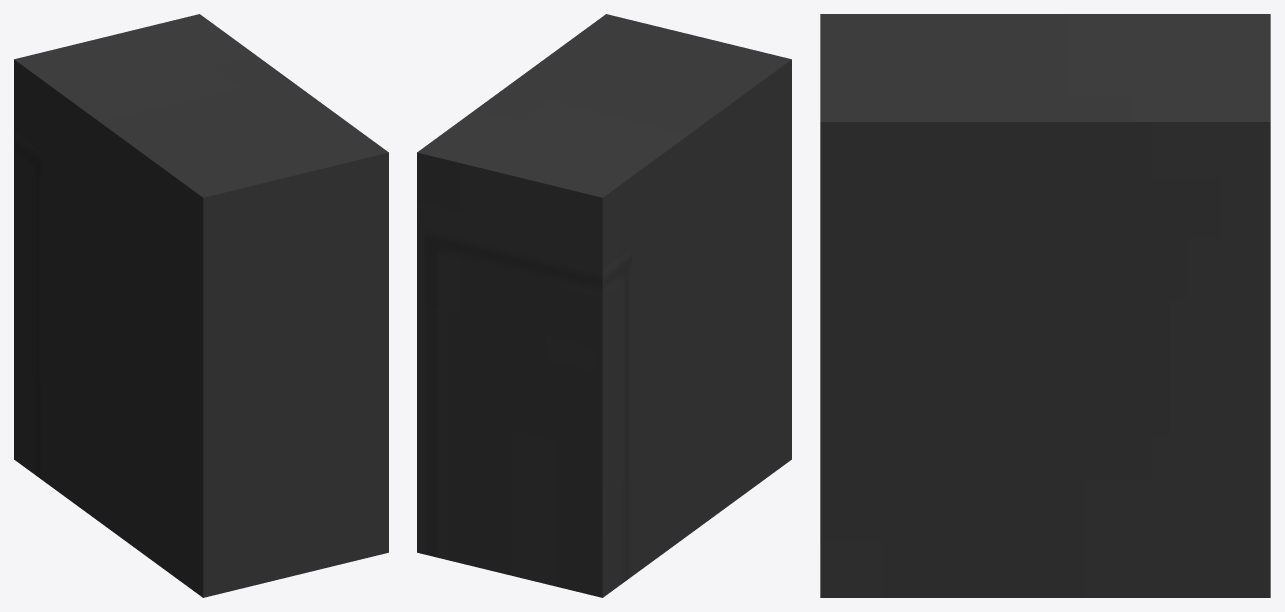
File: frame__ladder_tooth_0.glb
The picture shows the model from 3 angles, left to right: view 1: azimuth 30°, elevation 25°; view 2: azimuth 150°, elevation 25°; view 3: azimuth 270°, elevation 25°; orthographic projection. The views are drawn at different scales.
Visible parts, largest first — view 1: world; view 2: world; view 3: world.
Part boxes in pixels (left/top/right/bottom): world: left=14, top=14, right=388, bottom=597; world: left=417, top=14, right=791, bottom=597; world: left=820, top=14, right=1270, bottom=597.
Size of the model in its own units: 0.034 by 0.07 by 0.06.
Materials: 1 (1 with a texture image).
